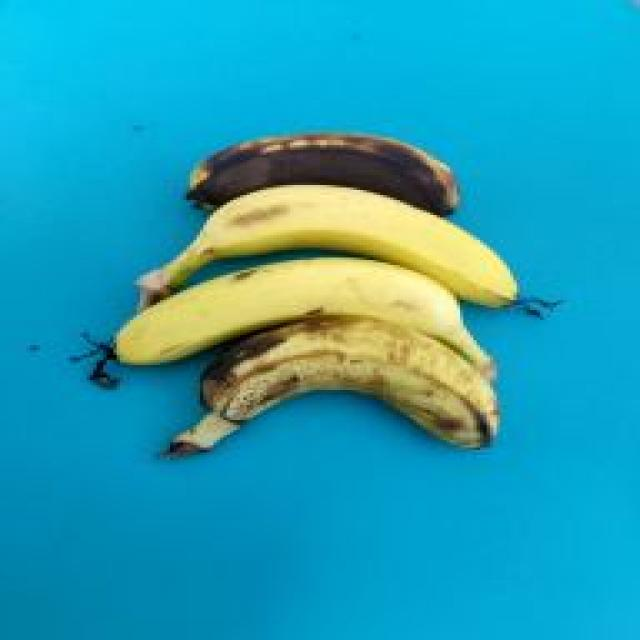Wet: (160, 308, 497, 458), (177, 128, 463, 220)
